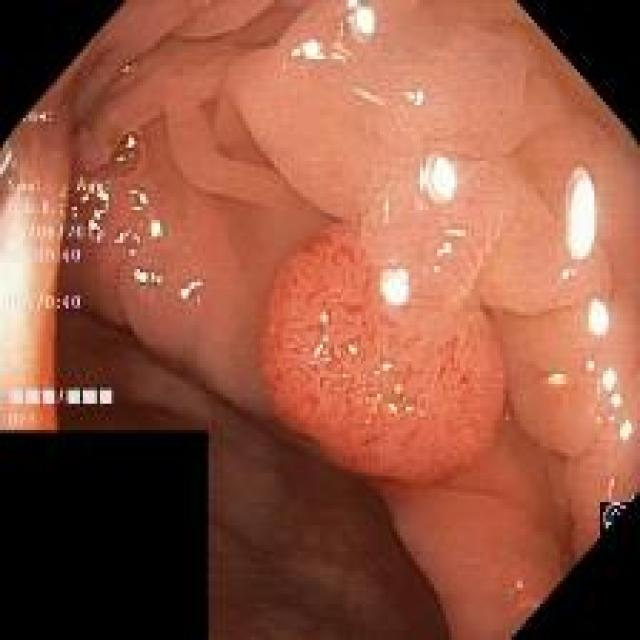Polyps: (0, 1, 640, 638), (262, 224, 505, 484)
